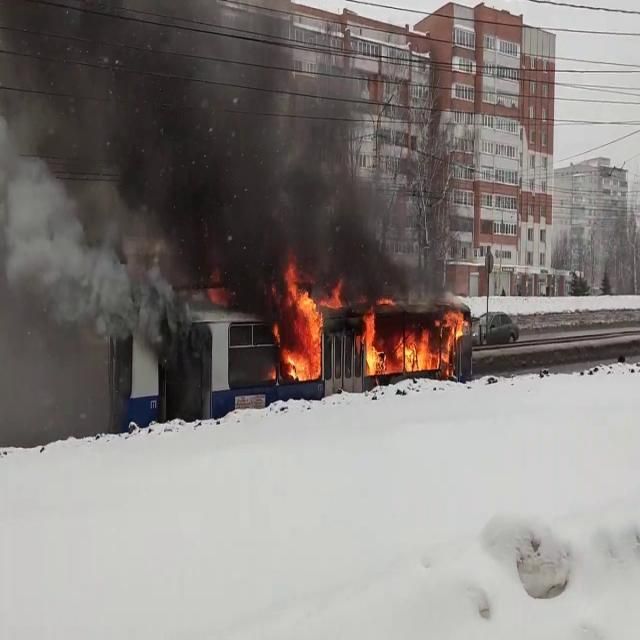Fire: (356, 303, 469, 381), (274, 270, 334, 380)
Smoke: (0, 1, 442, 308)
